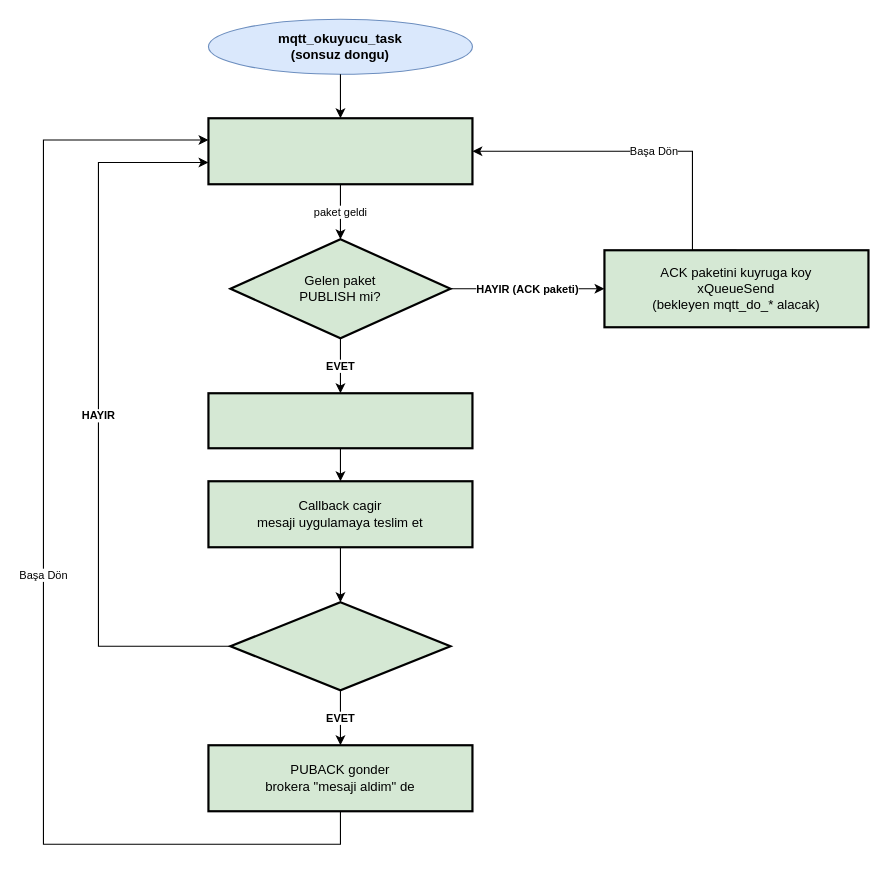
Image size: 888x872. Some labels were removed from this diagram. The shapes that lost their labels are listed below. From the top down, each one's centre as x and y in pixels, then its label:
(340,151): Paket bekle receive_packet (1 sn)
(340,420): Paketi coz topic + payload ayikla
(340,646): Mesaj QoS 1 mi?
